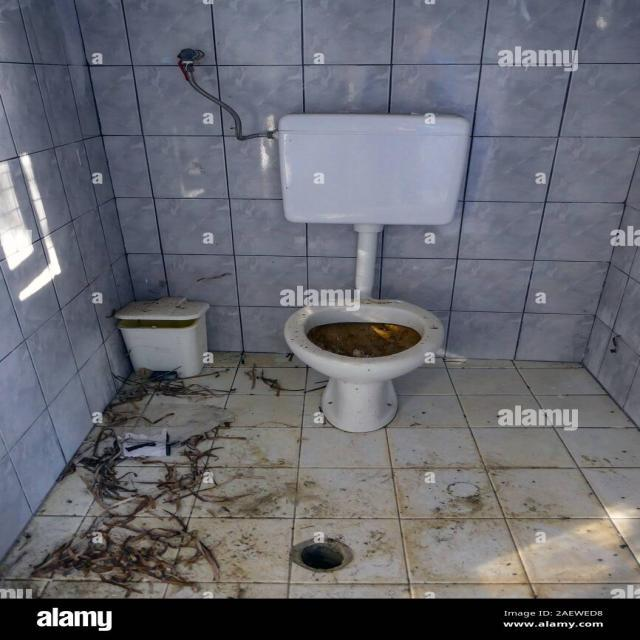dirty_floor: (1, 0, 638, 582), (1, 350, 638, 598)
